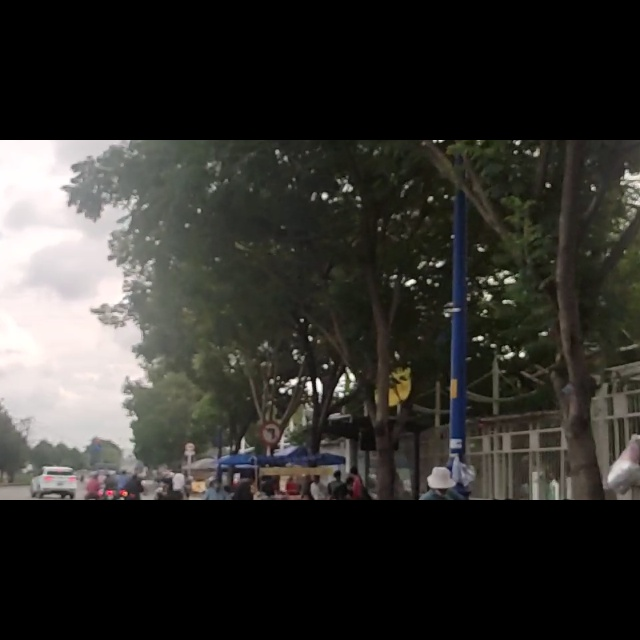bien_cam: (259, 499, 282, 538)
